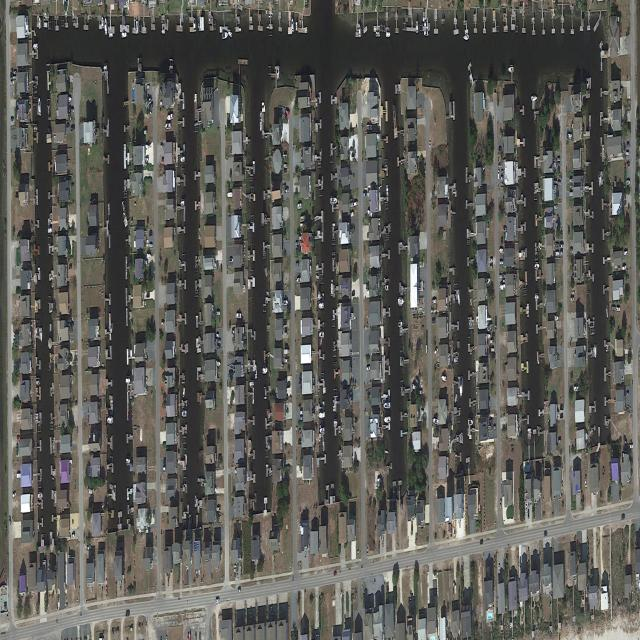ship: (123, 209, 128, 228), (459, 375, 463, 398), (259, 111, 263, 133), (367, 207, 373, 219), (487, 322, 493, 333), (221, 31, 228, 40), (38, 96, 41, 117), (432, 417, 438, 427), (331, 278, 334, 298), (146, 97, 152, 107), (104, 17, 107, 36), (383, 416, 391, 423), (330, 198, 338, 205), (441, 374, 447, 383), (166, 114, 173, 121), (457, 289, 460, 305), (181, 410, 187, 418), (40, 327, 43, 343), (398, 299, 405, 305), (319, 413, 325, 420), (384, 402, 390, 409), (553, 315, 559, 322), (499, 284, 505, 291), (262, 367, 268, 374), (107, 417, 114, 423), (535, 263, 540, 271), (194, 495, 197, 508), (182, 386, 185, 399), (122, 200, 125, 213), (318, 303, 324, 309), (366, 125, 372, 131), (508, 67, 514, 73), (531, 95, 537, 101), (236, 313, 242, 319), (125, 378, 131, 384), (125, 458, 131, 464), (319, 331, 324, 338), (398, 321, 403, 328), (463, 35, 470, 40), (283, 300, 288, 307), (164, 124, 171, 129), (103, 65, 108, 72), (599, 171, 601, 188), (228, 30, 232, 38), (292, 17, 294, 33), (535, 293, 539, 301), (255, 364, 257, 380), (319, 428, 325, 433), (333, 398, 335, 413), (468, 419, 473, 425), (161, 28, 166, 34), (386, 32, 391, 38), (297, 203, 302, 209), (574, 386, 579, 392), (499, 248, 504, 254), (277, 65, 279, 80), (180, 201, 185, 207), (101, 16, 103, 31), (121, 33, 127, 38), (38, 493, 43, 499), (334, 421, 338, 428), (359, 24, 361, 38), (595, 344, 597, 358), (487, 333, 491, 340), (194, 17, 196, 31), (136, 20, 138, 34), (416, 20, 418, 33), (461, 432, 463, 445), (39, 17, 41, 30), (527, 428, 532, 433), (296, 278, 301, 283), (33, 44, 38, 49), (376, 31, 380, 37), (424, 30, 428, 36), (217, 361, 221, 367), (147, 254, 151, 260), (587, 78, 589, 89), (300, 222, 304, 227), (385, 286, 389, 291), (626, 180, 630, 185), (555, 251, 559, 256), (250, 382, 254, 387), (180, 158, 185, 162), (36, 380, 40, 385), (296, 21, 297, 32)
small-vehicle: (284, 348, 290, 355), (623, 435, 627, 445), (434, 347, 438, 356), (284, 187, 289, 194), (215, 598, 220, 605), (450, 526, 453, 537), (366, 365, 370, 373), (453, 582, 457, 589), (585, 475, 587, 488), (432, 299, 437, 304), (559, 243, 564, 248), (216, 506, 221, 511), (498, 163, 502, 169), (500, 500, 502, 512), (354, 201, 358, 207), (622, 265, 626, 271), (70, 107, 74, 113), (66, 122, 70, 128), (71, 124, 75, 130), (495, 318, 497, 330), (554, 204, 558, 210), (234, 565, 236, 577), (250, 607, 252, 619), (9, 516, 11, 527), (483, 163, 486, 170), (13, 491, 16, 498), (432, 319, 436, 324), (429, 141, 431, 151), (295, 241, 299, 246), (616, 307, 621, 311), (629, 444, 633, 449), (16, 436, 20, 441), (560, 406, 564, 411), (560, 414, 564, 419), (556, 222, 560, 227), (624, 250, 628, 255), (499, 260, 503, 265), (499, 274, 503, 279), (557, 181, 561, 186), (498, 170, 500, 180), (161, 321, 165, 326), (285, 358, 289, 363), (229, 258, 233, 263), (149, 242, 153, 247), (237, 588, 241, 593), (71, 534, 75, 539), (493, 425, 496, 431), (424, 164, 426, 173), (235, 469, 238, 475), (271, 606, 273, 615), (490, 339, 494, 343), (363, 193, 367, 197), (621, 516, 625, 520), (489, 265, 493, 269), (500, 176, 504, 180), (569, 179, 573, 183), (10, 81, 14, 85), (145, 157, 149, 161), (216, 311, 220, 315), (160, 145, 164, 149), (570, 247, 573, 252), (300, 410, 303, 415), (558, 439, 561, 444), (491, 347, 494, 352), (626, 142, 629, 147), (69, 265, 72, 270), (626, 151, 629, 156), (11, 118, 14, 123), (71, 183, 74, 188), (284, 163, 287, 168), (287, 110, 290, 115), (300, 416, 303, 420), (421, 410, 424, 414), (296, 263, 299, 267), (570, 298, 574, 301), (626, 392, 629, 396), (284, 169, 287, 173), (492, 333, 495, 337), (490, 258, 493, 262), (560, 251, 563, 255), (557, 157, 560, 161), (163, 467, 166, 471), (216, 333, 219, 337), (526, 505, 527, 516), (528, 509, 529, 520), (168, 576, 169, 587), (237, 569, 238, 580), (499, 564, 500, 573), (218, 340, 221, 343)
